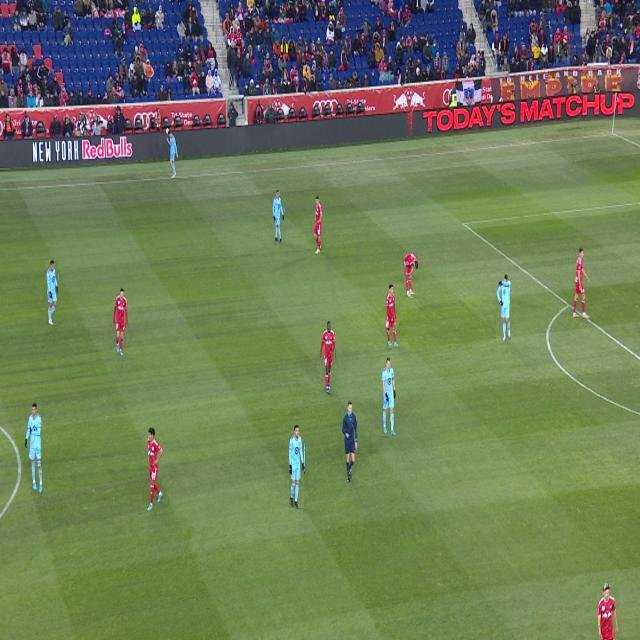player: (25, 403, 43, 493), (147, 428, 163, 511), (597, 583, 619, 639), (573, 248, 590, 318), (290, 426, 304, 508), (382, 357, 396, 436), (321, 321, 335, 393), (497, 275, 511, 341), (114, 289, 127, 356), (386, 284, 399, 348), (47, 260, 58, 325), (404, 254, 418, 297), (167, 130, 179, 179), (273, 191, 284, 244), (313, 195, 322, 254)
referee: (342, 401, 357, 483)
